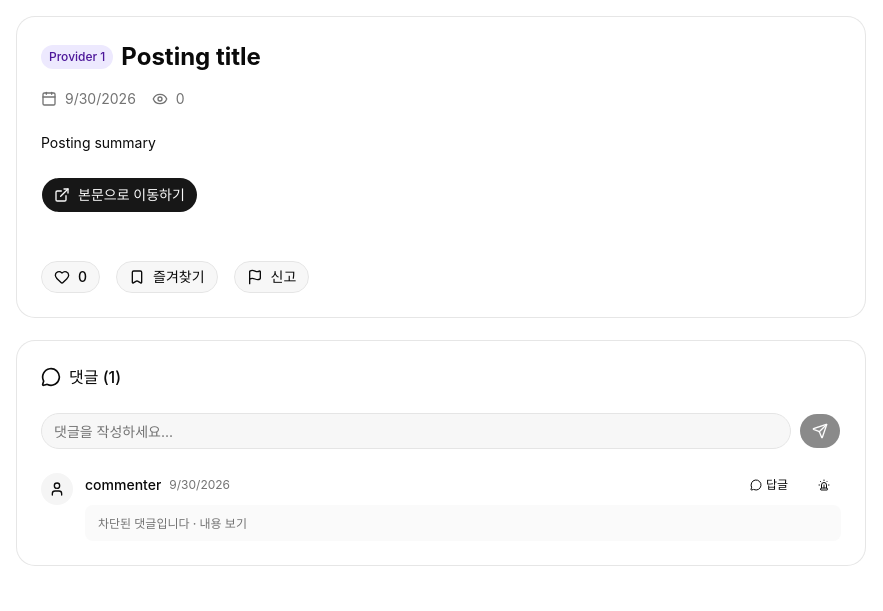
PostDetail report menus › hides blocked comment content until requested and keeps its report action
The image size is (883, 611).
Expected: the text "Blocked comment content" is not shown
Expected: the button named "댓글 신고" is shown, [807, 473, 841, 497]
Click the button named "차단된 댓글 내용 보기": [172, 524] box [97, 515, 248, 533]
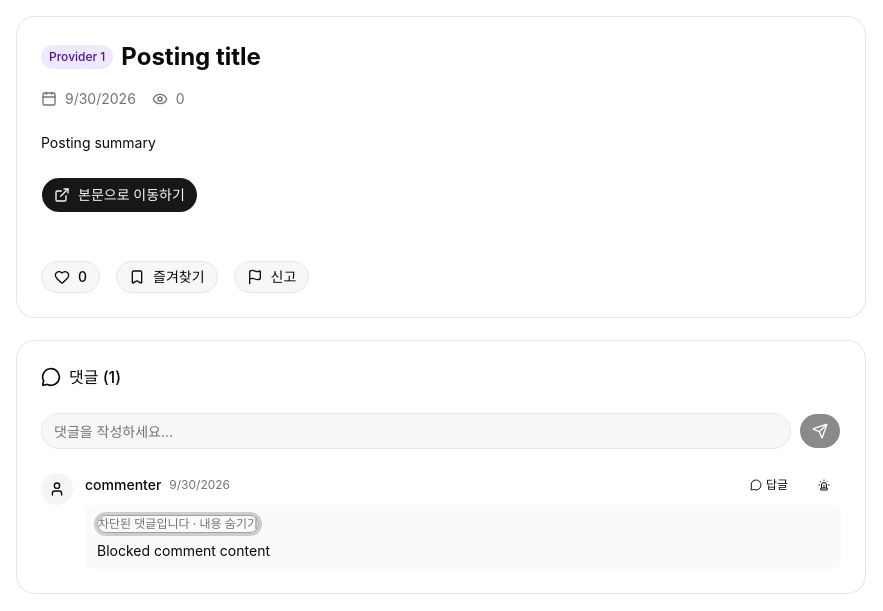
Expected: the text "Blocked comment content" is shown, [97, 542, 270, 559]
Expected: the button named "차단된 댓글 내용 숨기기" is shown, [97, 515, 259, 533]
